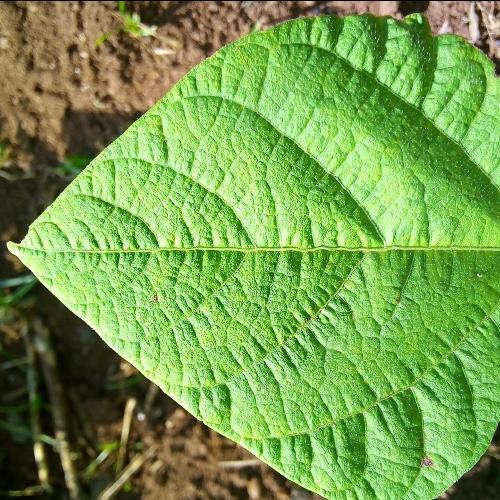sehat: (144, 58, 475, 476)
